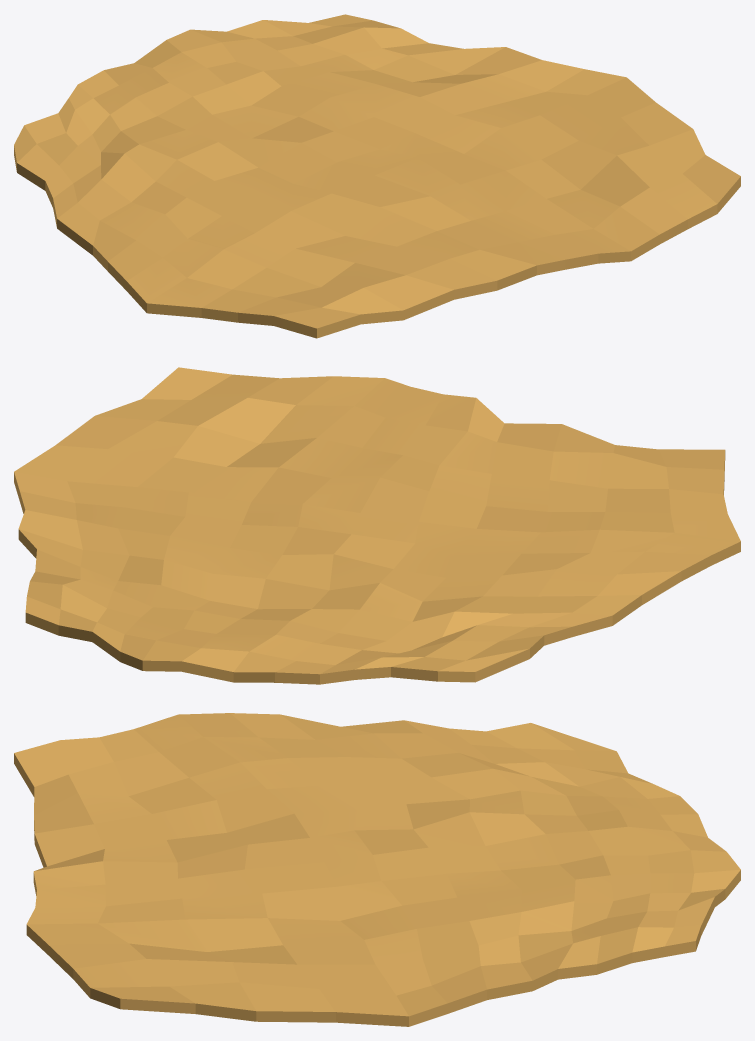
3 renders of one model, top to bottom at view 1: azimuth 30°, elevation 25°; view 2: azimuth 150°, elevation 25°; view 3: azimuth 270°, elevation 25°, orthographic. The views are drawn at different scales.
Visible parts, largest first — view 1: SM_Circle; view 2: SM_Circle; view 3: SM_Circle.
Part boxes in pixels (x1,y1,x2,y2): SM_Circle: (14, 14, 740, 338); SM_Circle: (14, 367, 740, 684); SM_Circle: (14, 713, 740, 1026).
Size of the model in its own units: 1.85 by 0.0739 by 1.86.
Materials: 1 (1 with a texture image).
